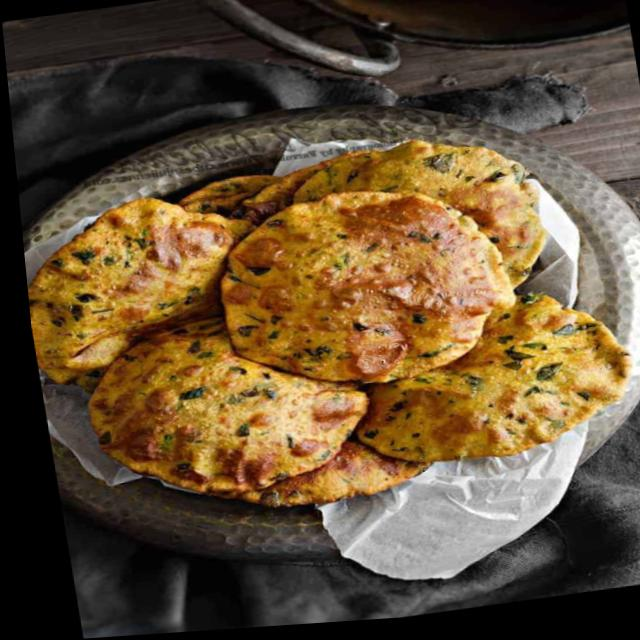POORI: (27, 135, 631, 505)
